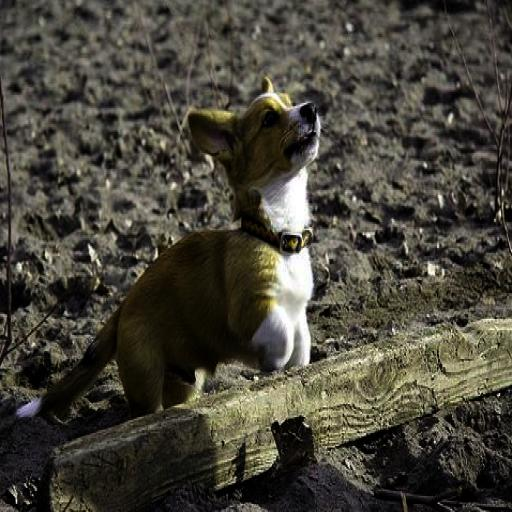dog_face: (184, 70, 321, 200)
